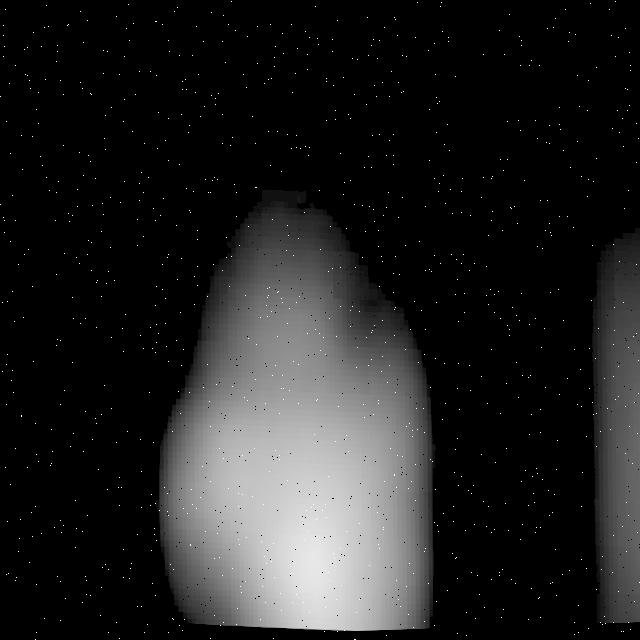person: (141, 194, 448, 638), (539, 121, 640, 629)
